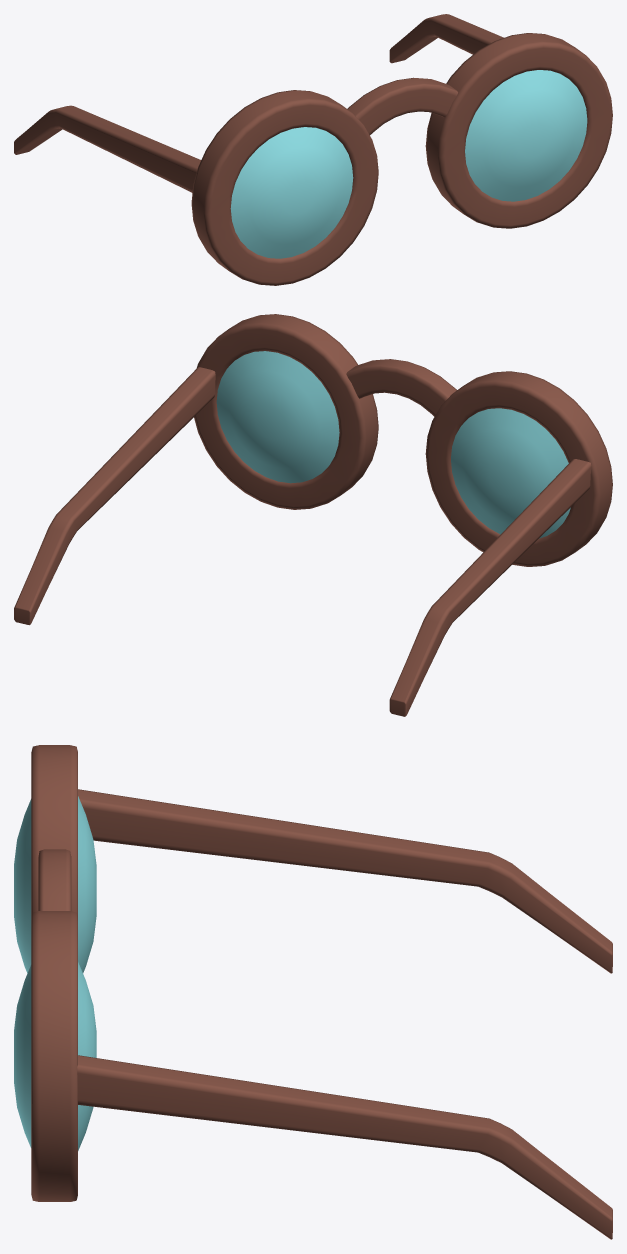
The model's file is Public_2_Glasses_1.glb.
3 views of the same model, one above another, from view 1: azimuth 30°, elevation 25°; view 2: azimuth 150°, elevation 25°; view 3: azimuth 270°, elevation 25° (orthographic). The views are drawn at different scales.
Parts seen in each view (by area): view 1: Public_2_Glasses_1; view 2: Public_2_Glasses_1; view 3: Public_2_Glasses_1.
Part boxes in pixels (x1,y1,x2,y2): Public_2_Glasses_1: (14, 14, 612, 285); Public_2_Glasses_1: (14, 314, 612, 716); Public_2_Glasses_1: (14, 745, 612, 1239).
Size of the model in its own units: 1.39 by 0.5907 by 1.21.
1 material, 1 textured.
